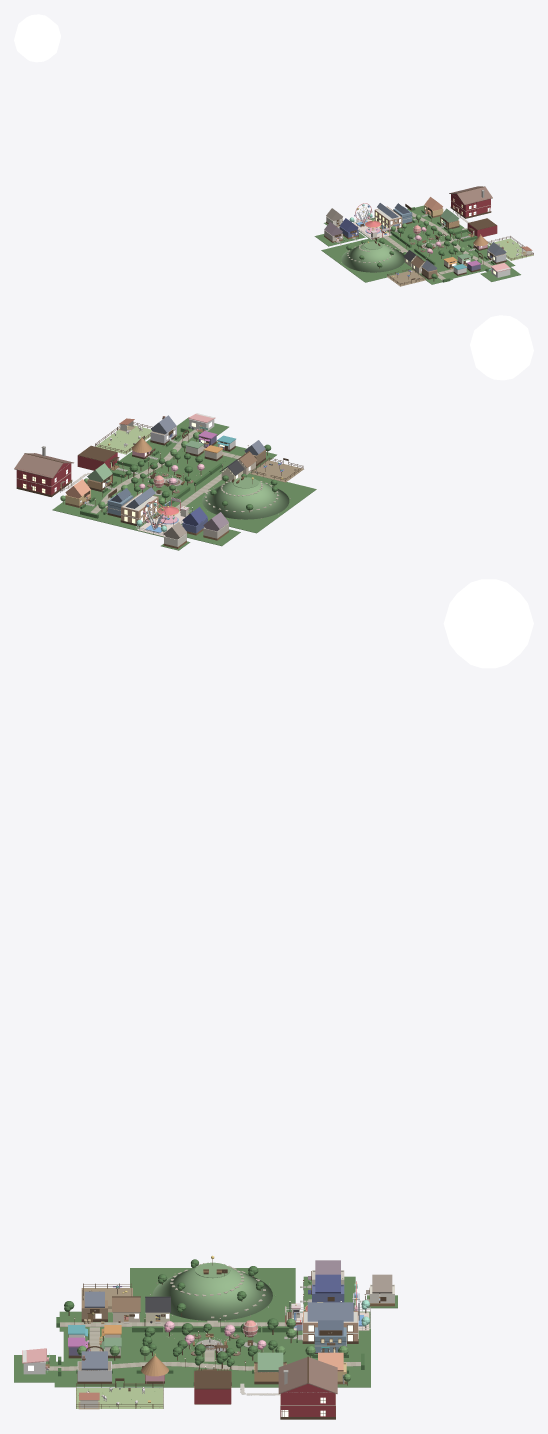
Rendered from starryapa_room.glb.
3 renders of one model, top to bottom at view 1: azimuth 30°, elevation 25°; view 2: azimuth 150°, elevation 25°; view 3: azimuth 270°, elevation 25°, orthographic. The views are drawn at different scales.
Visible parts, largest first — view 1: moon, ext_ground, mtn_body, mtn_ground, town3_ground, ranch_ground, house_roof_s, bird_ground; view 2: moon, ext_ground, mtn_body, mtn_ground, ranch_ground, mia_ground, town3_ground, house_roof_n, bird_ground, ceiling, play_pad, play_carousel; view 3: moon, ext_ground, mtn_body, mtn_ground, ranch_ground, town3_ground, mia_ground.
Part boxes in pixels (box(x1,y1,x2,y2)): moon: box(14, 14, 60, 62); ext_ground: box(387, 217, 489, 268); mtn_body: box(341, 243, 404, 272); mtn_ground: box(321, 238, 411, 282); town3_ground: box(372, 235, 452, 284); ranch_ground: box(488, 238, 533, 260); house_roof_s: box(457, 187, 492, 205); bird_ground: box(387, 270, 426, 286); moon: box(470, 315, 533, 380); ext_ground: box(90, 442, 227, 513); mtn_body: box(202, 480, 289, 519); mtn_ground: box(202, 474, 316, 533); ranch_ground: box(96, 425, 151, 454); mia_ground: box(52, 498, 156, 530); town3_ground: box(170, 449, 276, 513); house_roof_n: box(14, 453, 63, 478); bird_ground: box(250, 460, 303, 482); ceiling: box(78, 445, 117, 461); play_pad: box(137, 511, 185, 536); play_carousel: box(157, 506, 179, 523); moon: box(443, 579, 533, 668); ext_ground: box(115, 1331, 310, 1387); mtn_body: box(152, 1267, 272, 1320); mtn_ground: box(130, 1268, 295, 1311); ranch_ground: box(76, 1388, 163, 1408); town3_ground: box(59, 1311, 285, 1331); mia_ground: box(310, 1331, 370, 1387).
Size of what is drawn, in the model's own units: 181 by 104 by 104.
